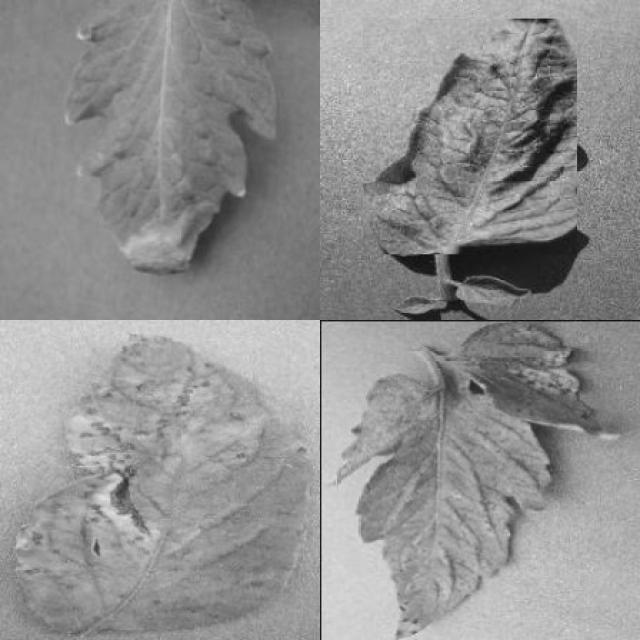Late Blight: (64, 0, 277, 276)
Septoria: (325, 320, 622, 640), (16, 334, 313, 634)
Spider Mites: (363, 19, 578, 254)
